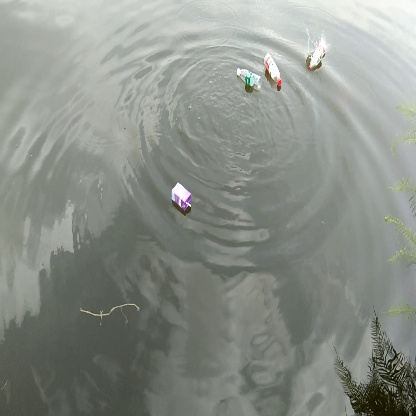bottle: (303, 39, 332, 73), (264, 52, 285, 90), (235, 65, 263, 91)
milk-box: (167, 179, 196, 212)
